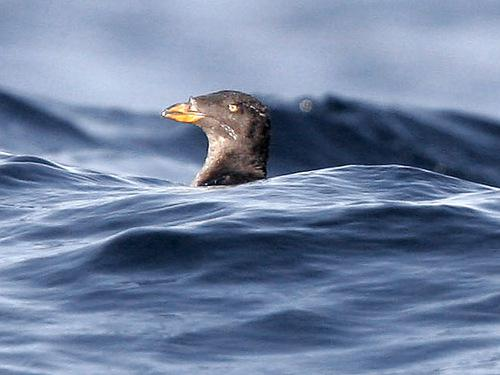008.Rhinoceros_Auklet: (159, 86, 272, 190)
